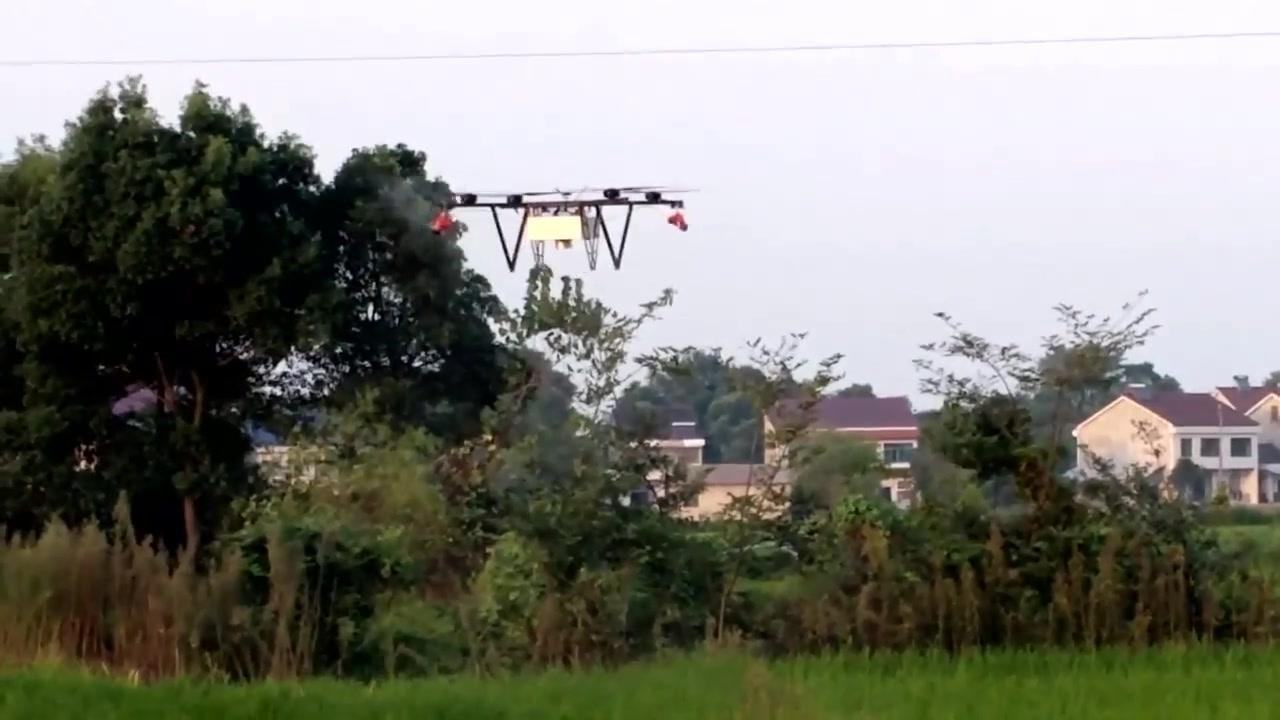UAV: (430, 187, 690, 274)
